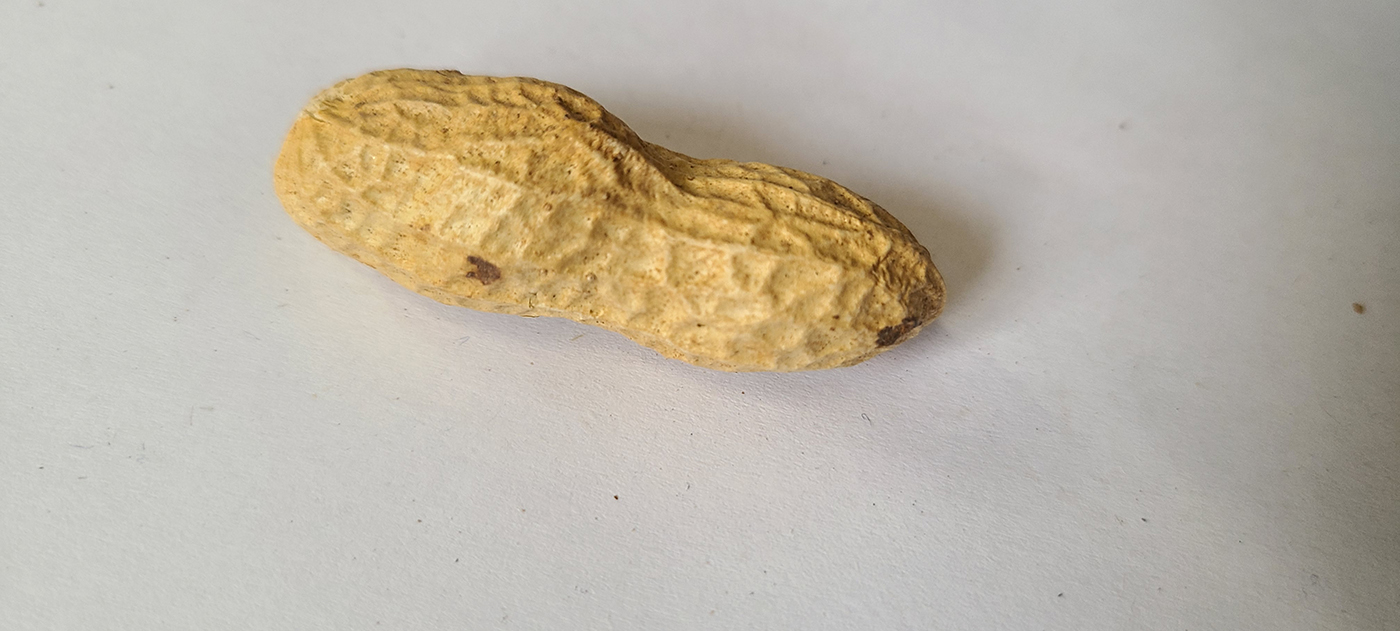h: (268, 66, 948, 372)
